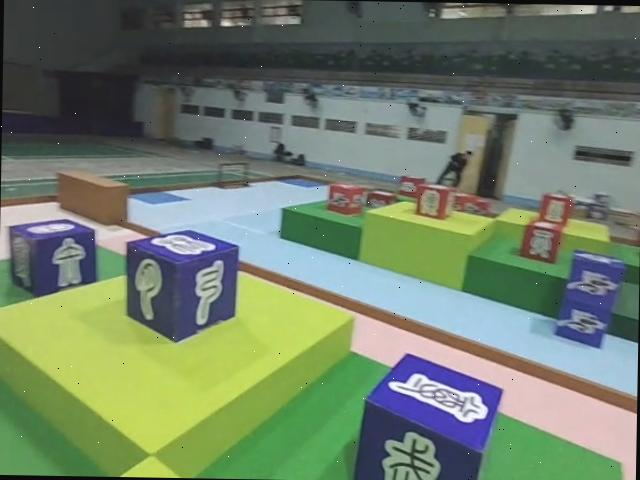R2 Fake Blue: (354, 349, 505, 480), (126, 229, 239, 341), (8, 214, 97, 292)
